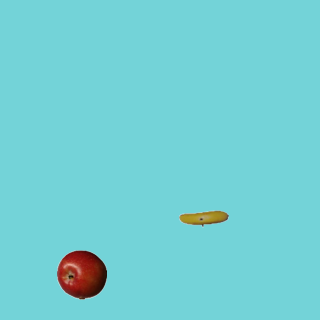Apple Braeburn: (56, 249, 106, 299)
Banana: (178, 193, 228, 243)
